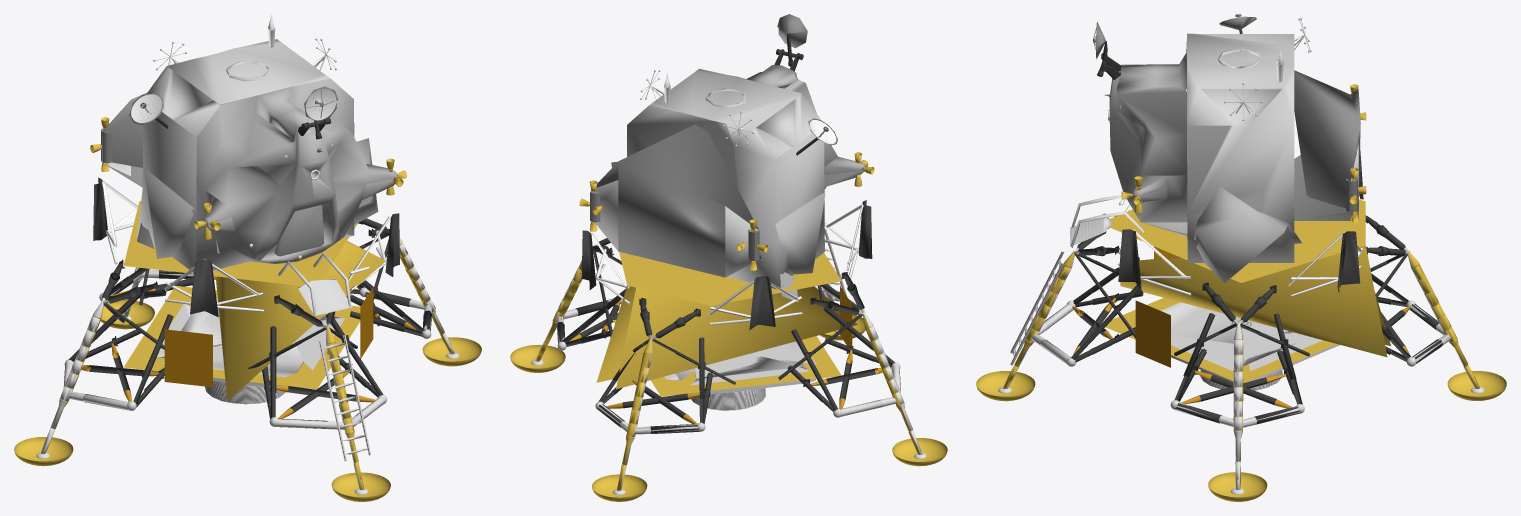
File: lunar_module.fbx
3 renders of one model, left to right at view 1: azimuth 30°, elevation 25°; view 2: azimuth 150°, elevation 25°; view 3: azimuth 270°, elevation 25°, orthographic. The views are drawn at different scales.
Visible parts, largest first — view 1: initialShadingGr.001, blinn1SG.002, blinn6SG.001, blinn4SG.002, blinn2SG.002, blinn7SG.002, blinn8SG.001, blinn9SG.001, blinn5SG.002, blinn12SG.001; view 2: blinn1SG.002, initialShadingGr.001, blinn2SG.002, blinn6SG.001, blinn4SG.002, blinn7SG.002, blinn9SG.001, blinn5SG.002; view 3: initialShadingGr.001, blinn1SG.002, blinn4SG.002, blinn6SG.001, blinn2SG.002, blinn9SG.001, blinn12SG.001, blinn7SG.002.
Part boxes in pixels (<box>): initialShadingGr.001: <box>137,39,396,272</box>; blinn1SG.002: <box>14,117,481,501</box>; blinn6SG.001: <box>63,102,431,429</box>; blinn4SG.002: <box>36,14,459,494</box>; blinn2SG.002: <box>101,89,334,256</box>; blinn7SG.002: <box>102,54,390,312</box>; blinn8SG.001: <box>164,329,212,387</box>; blinn9SG.001: <box>81,276,417,418</box>; blinn5SG.002: <box>205,381,285,404</box>; blinn12SG.001: <box>360,287,373,358</box>; blinn1SG.002: <box>510,152,947,501</box>; initialShadingGr.001: <box>611,65,864,302</box>; blinn2SG.002: <box>590,124,826,277</box>; blinn6SG.001: <box>556,33,900,434</box>; blinn4SG.002: <box>531,70,926,494</box>; blinn7SG.002: <box>591,14,863,325</box>; blinn9SG.001: <box>569,301,892,423</box>; blinn5SG.002: <box>691,388,765,410</box>; initialShadingGr.001: <box>1109,33,1301,283</box>; blinn1SG.002: <box>976,84,1506,501</box>; blinn4SG.002: <box>998,17,1484,494</box>; blinn6SG.001: <box>1031,29,1451,427</box>; blinn2SG.002: <box>1093,28,1360,220</box>; blinn9SG.001: <box>1072,297,1410,408</box>; blinn12SG.001: <box>1135,300,1170,367</box>; blinn7SG.002: <box>1096,16,1363,296</box>.
Bounding box in the file's own units: 9.6 × 7.48 × 9.6.
12 materials, 3 textured.
